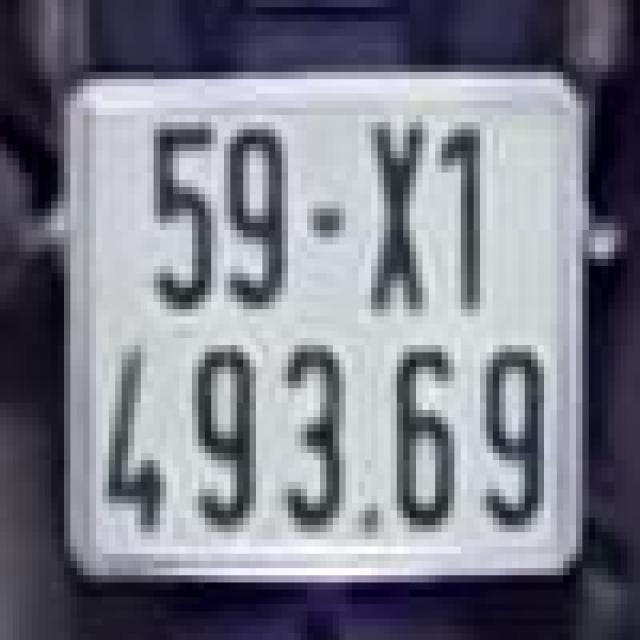1: (442, 115, 492, 316)
3: (278, 334, 349, 536)
4: (80, 327, 176, 543)
5: (141, 111, 224, 320)
6: (378, 345, 467, 532)
9: (214, 111, 304, 313), (476, 338, 554, 546), (192, 338, 269, 532)
X: (358, 108, 429, 331)
